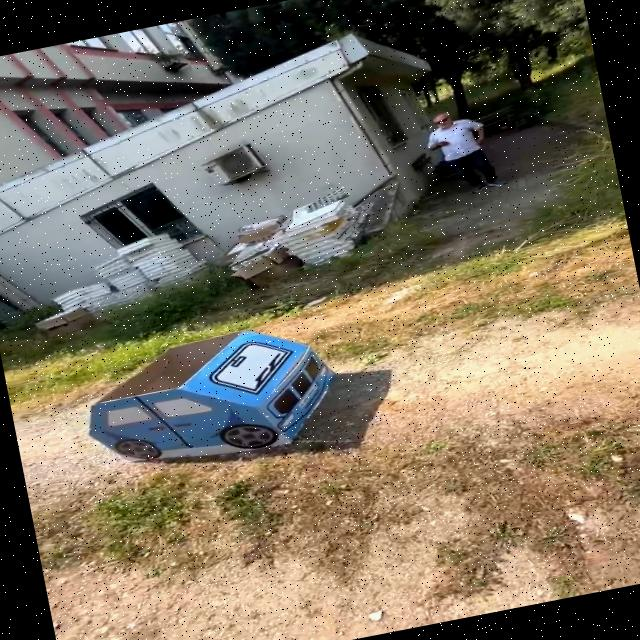blue_car: (46, 302, 385, 501)
